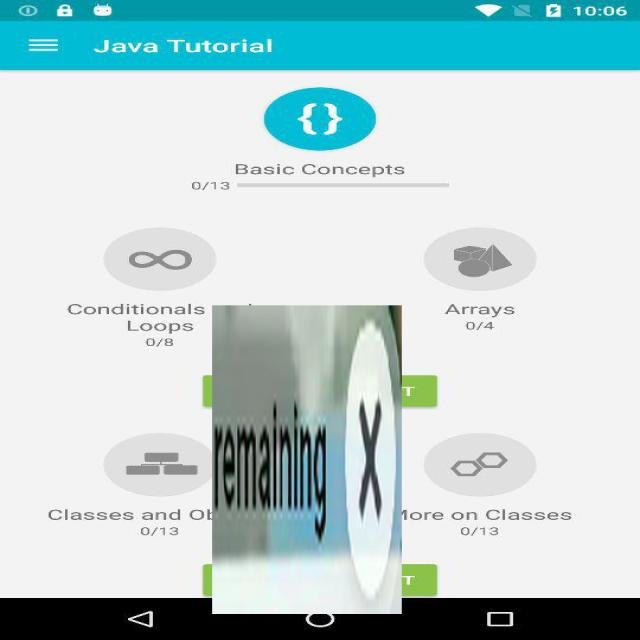misdirection: (212, 305, 402, 614)
